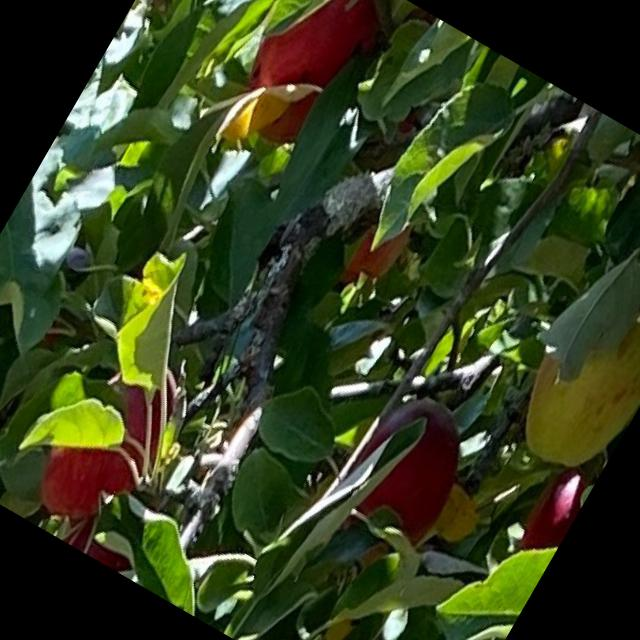Apples: (25, 341, 194, 541), (222, 0, 397, 157), (335, 378, 489, 550), (512, 458, 596, 565), (62, 498, 152, 577)
